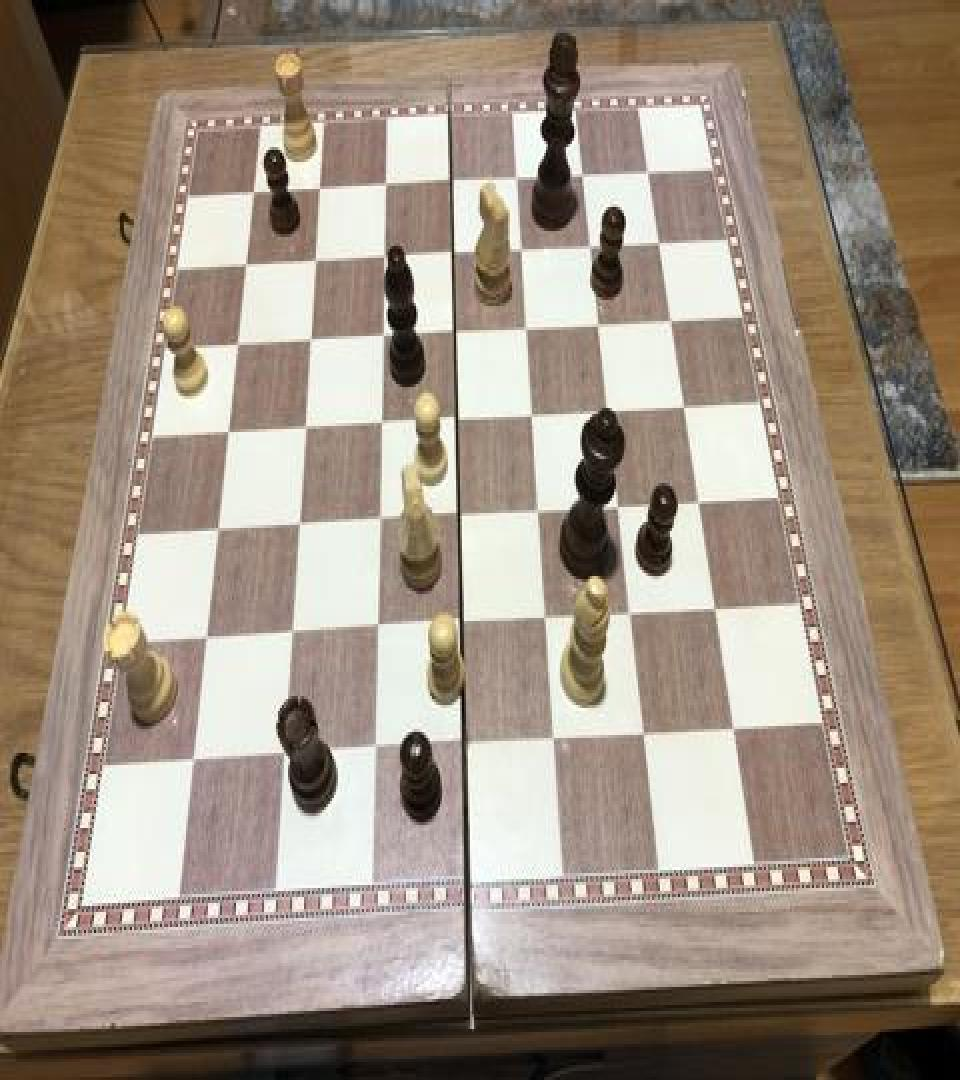xcorner: (725, 703, 749, 740), (636, 148, 660, 184), (571, 153, 595, 189), (506, 156, 530, 192), (441, 160, 465, 196), (376, 165, 400, 201), (311, 168, 335, 204), (647, 219, 671, 255), (579, 224, 603, 260), (511, 226, 535, 262), (443, 231, 467, 267), (375, 236, 399, 272), (306, 240, 330, 276), (238, 243, 262, 279), (660, 296, 684, 332), (588, 300, 612, 336), (517, 304, 541, 340), (445, 309, 469, 345), (373, 314, 397, 350), (301, 318, 325, 354), (230, 322, 254, 358), (673, 381, 697, 417), (598, 386, 622, 422), (523, 390, 547, 426), (447, 394, 471, 430), (371, 400, 395, 436), (296, 405, 320, 441), (220, 410, 244, 446), (689, 476, 713, 512), (609, 482, 633, 518), (529, 486, 553, 522), (449, 490, 473, 526), (370, 496, 394, 532), (290, 501, 314, 537), (210, 506, 234, 542), (706, 582, 730, 618), (621, 588, 645, 624), (537, 594, 561, 630), (452, 598, 476, 634), (367, 604, 391, 640), (283, 609, 307, 645), (198, 615, 222, 651), (635, 708, 659, 744), (545, 714, 569, 750), (455, 720, 479, 756), (365, 726, 389, 762), (275, 732, 299, 768), (185, 738, 209, 774), (246, 173, 270, 208)
